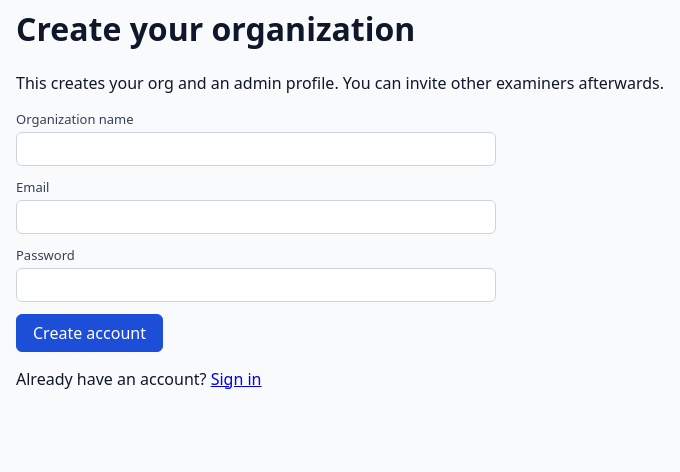
Test case: RegisterPage › surfaces a registration error
In the field labelled "Organization name": (256, 149) left=16, top=132, right=496, bottom=166, type "Acme"
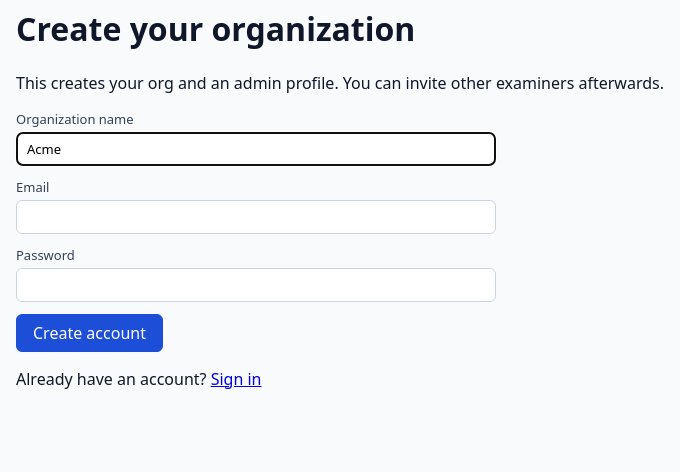
In the field labelled "Email": (256, 217) left=16, top=200, right=496, bottom=234, type "a@example.com"
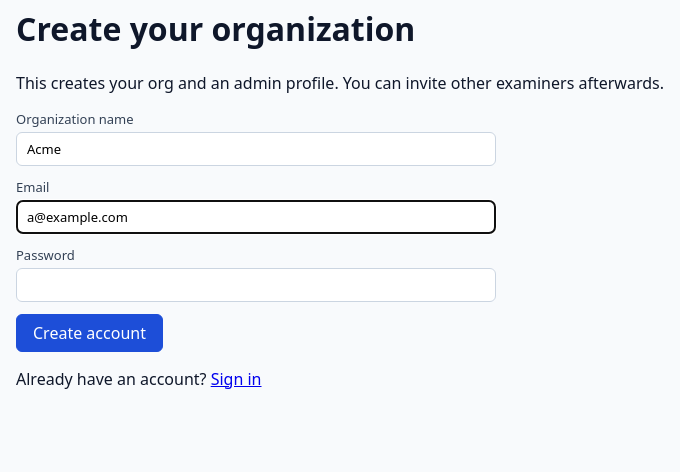
In the password field labelled "Password": (256, 285) left=16, top=268, right=496, bottom=302, type "hunter2hunter2"
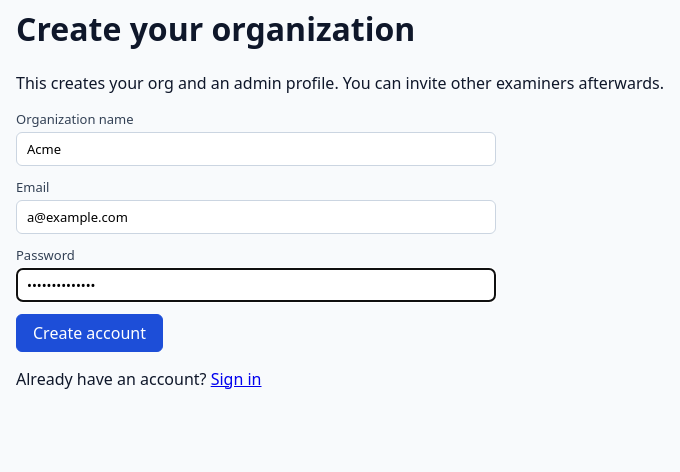
Click the button "Create account": (89, 333) left=16, top=314, right=163, bottom=352
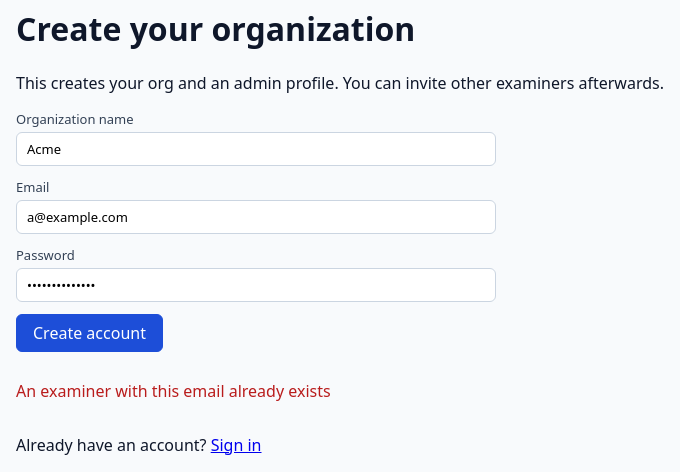
Result: the message shows "already exists" at left=16, top=380, right=331, bottom=402
